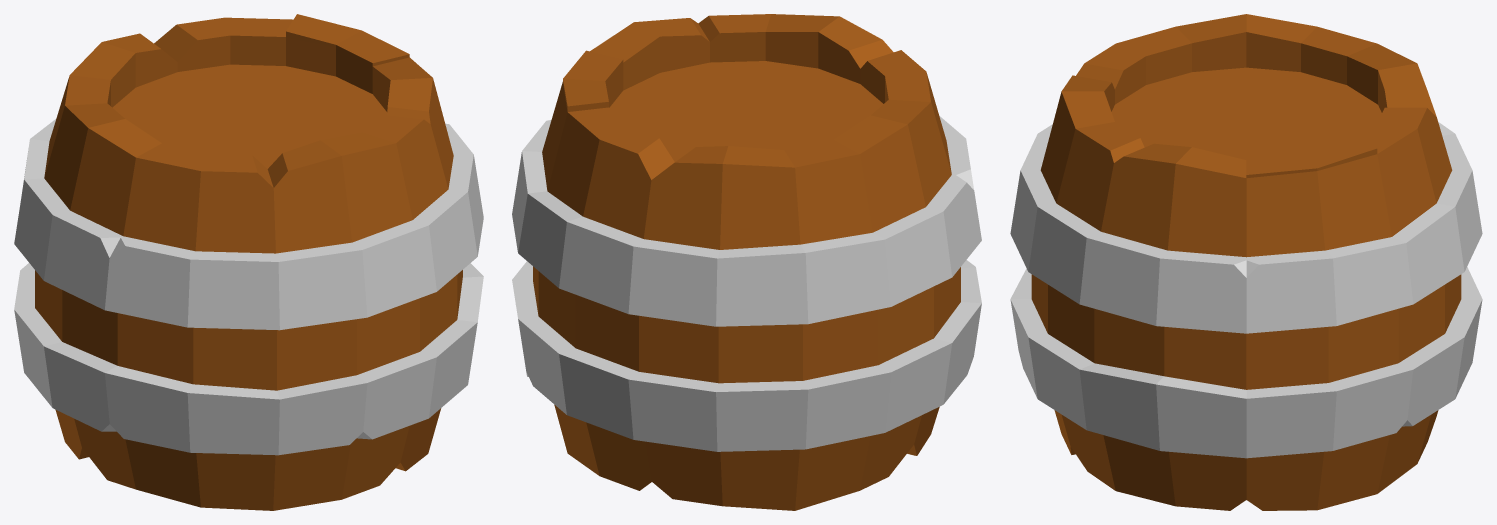
File: barrel.glb
3 renders of one model, left to right at view 1: azimuth 30°, elevation 25°; view 2: azimuth 150°, elevation 25°; view 3: azimuth 270°, elevation 25°, orthographic.
Parts seen in each view (by area): view 1: Barrel; view 2: Barrel; view 3: Barrel.
Boxes of the visible parts, x1,y1,x2,y2 form: Barrel: (14,14,483,510); Barrel: (512,14,981,510); Barrel: (1010,14,1482,510).
Size of the model in its own units: 2.55 by 2.08 by 2.55.
